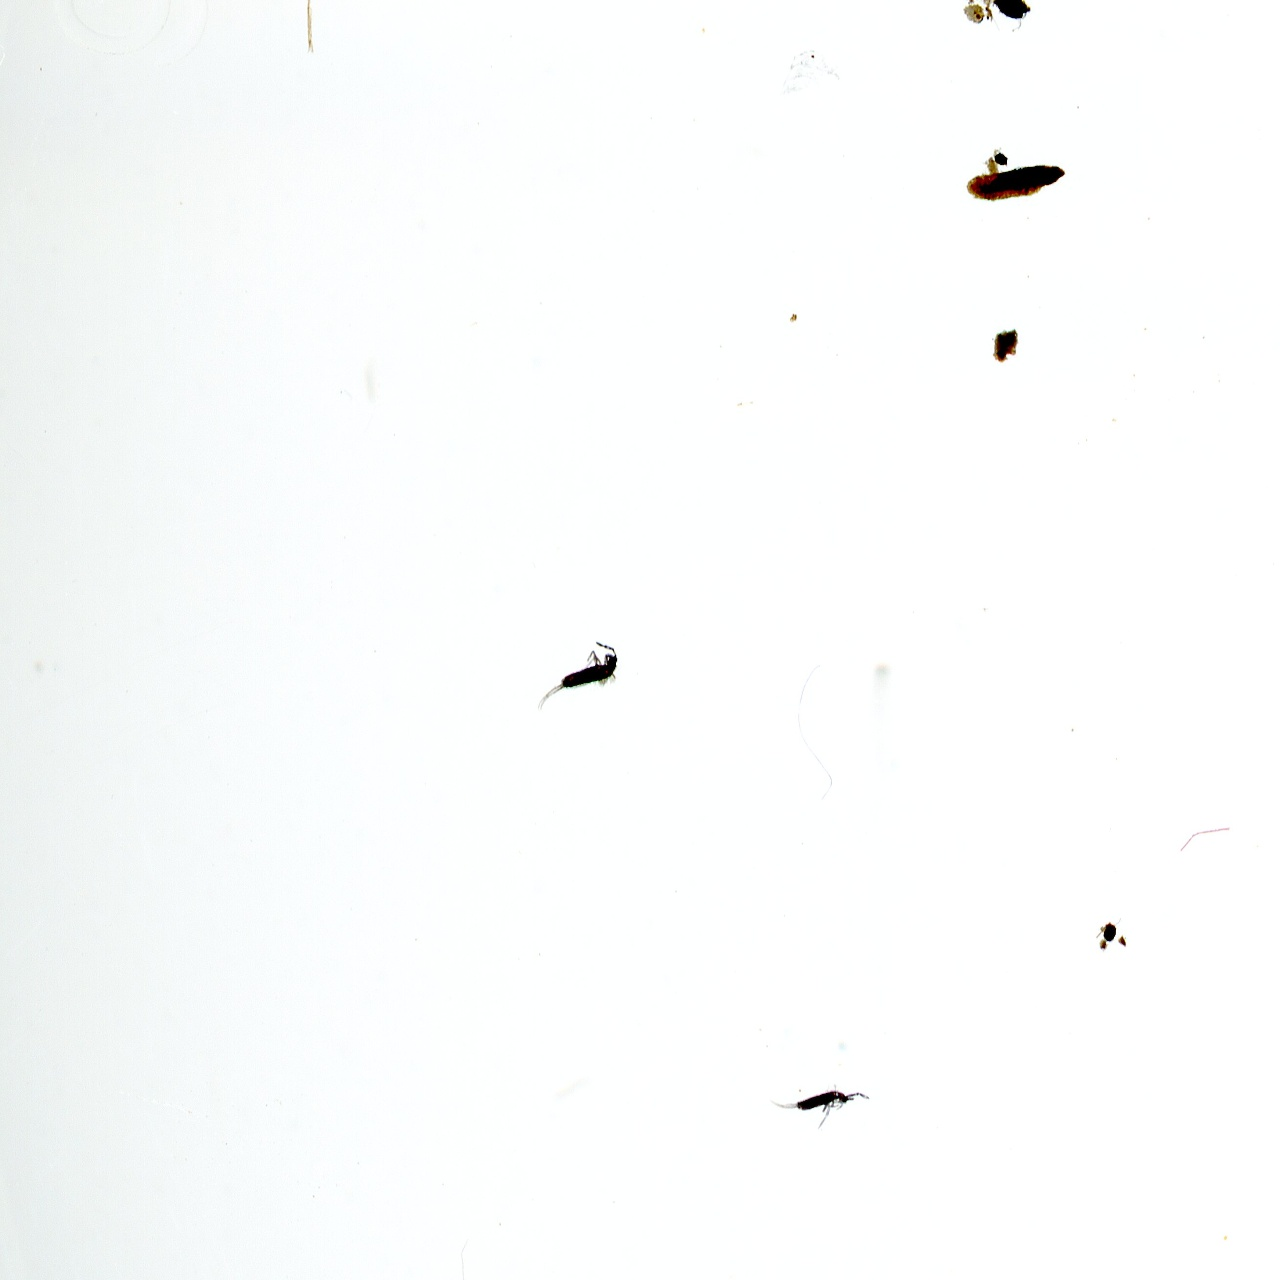arthropod: (532, 639, 622, 714), (763, 1082, 876, 1132)
